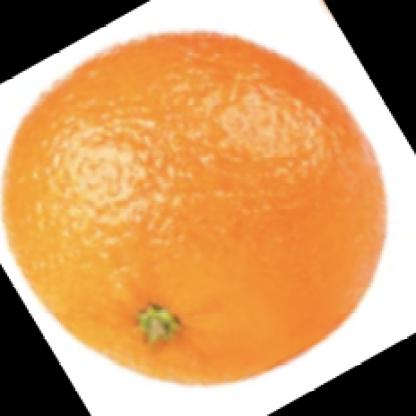fresh: (9, 32, 386, 385)
